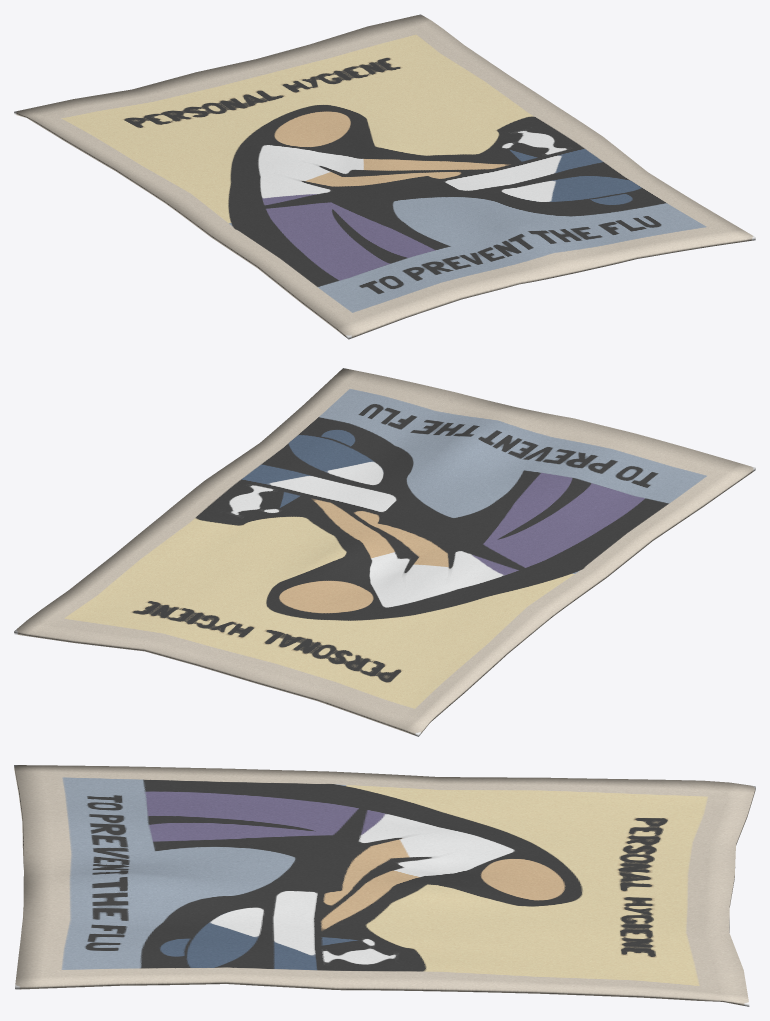
The model's file is plakat4.glb.
3 renders of one model, top to bottom at view 1: azimuth 30°, elevation 25°; view 2: azimuth 150°, elevation 25°; view 3: azimuth 270°, elevation 25°, orthographic. The views are drawn at different scales.
Visible parts, largest first — view 1: plakat4; view 2: plakat4; view 3: plakat4.
Part boxes in pixels (box(x1,y1,x2,y2)): plakat4: box(14, 14, 755, 339); plakat4: box(14, 368, 755, 736); plakat4: box(14, 765, 755, 1006).
Bounding box in the file's own units: 3.75 × 0.3038 × 5.31.
1 material, 1 textured.
